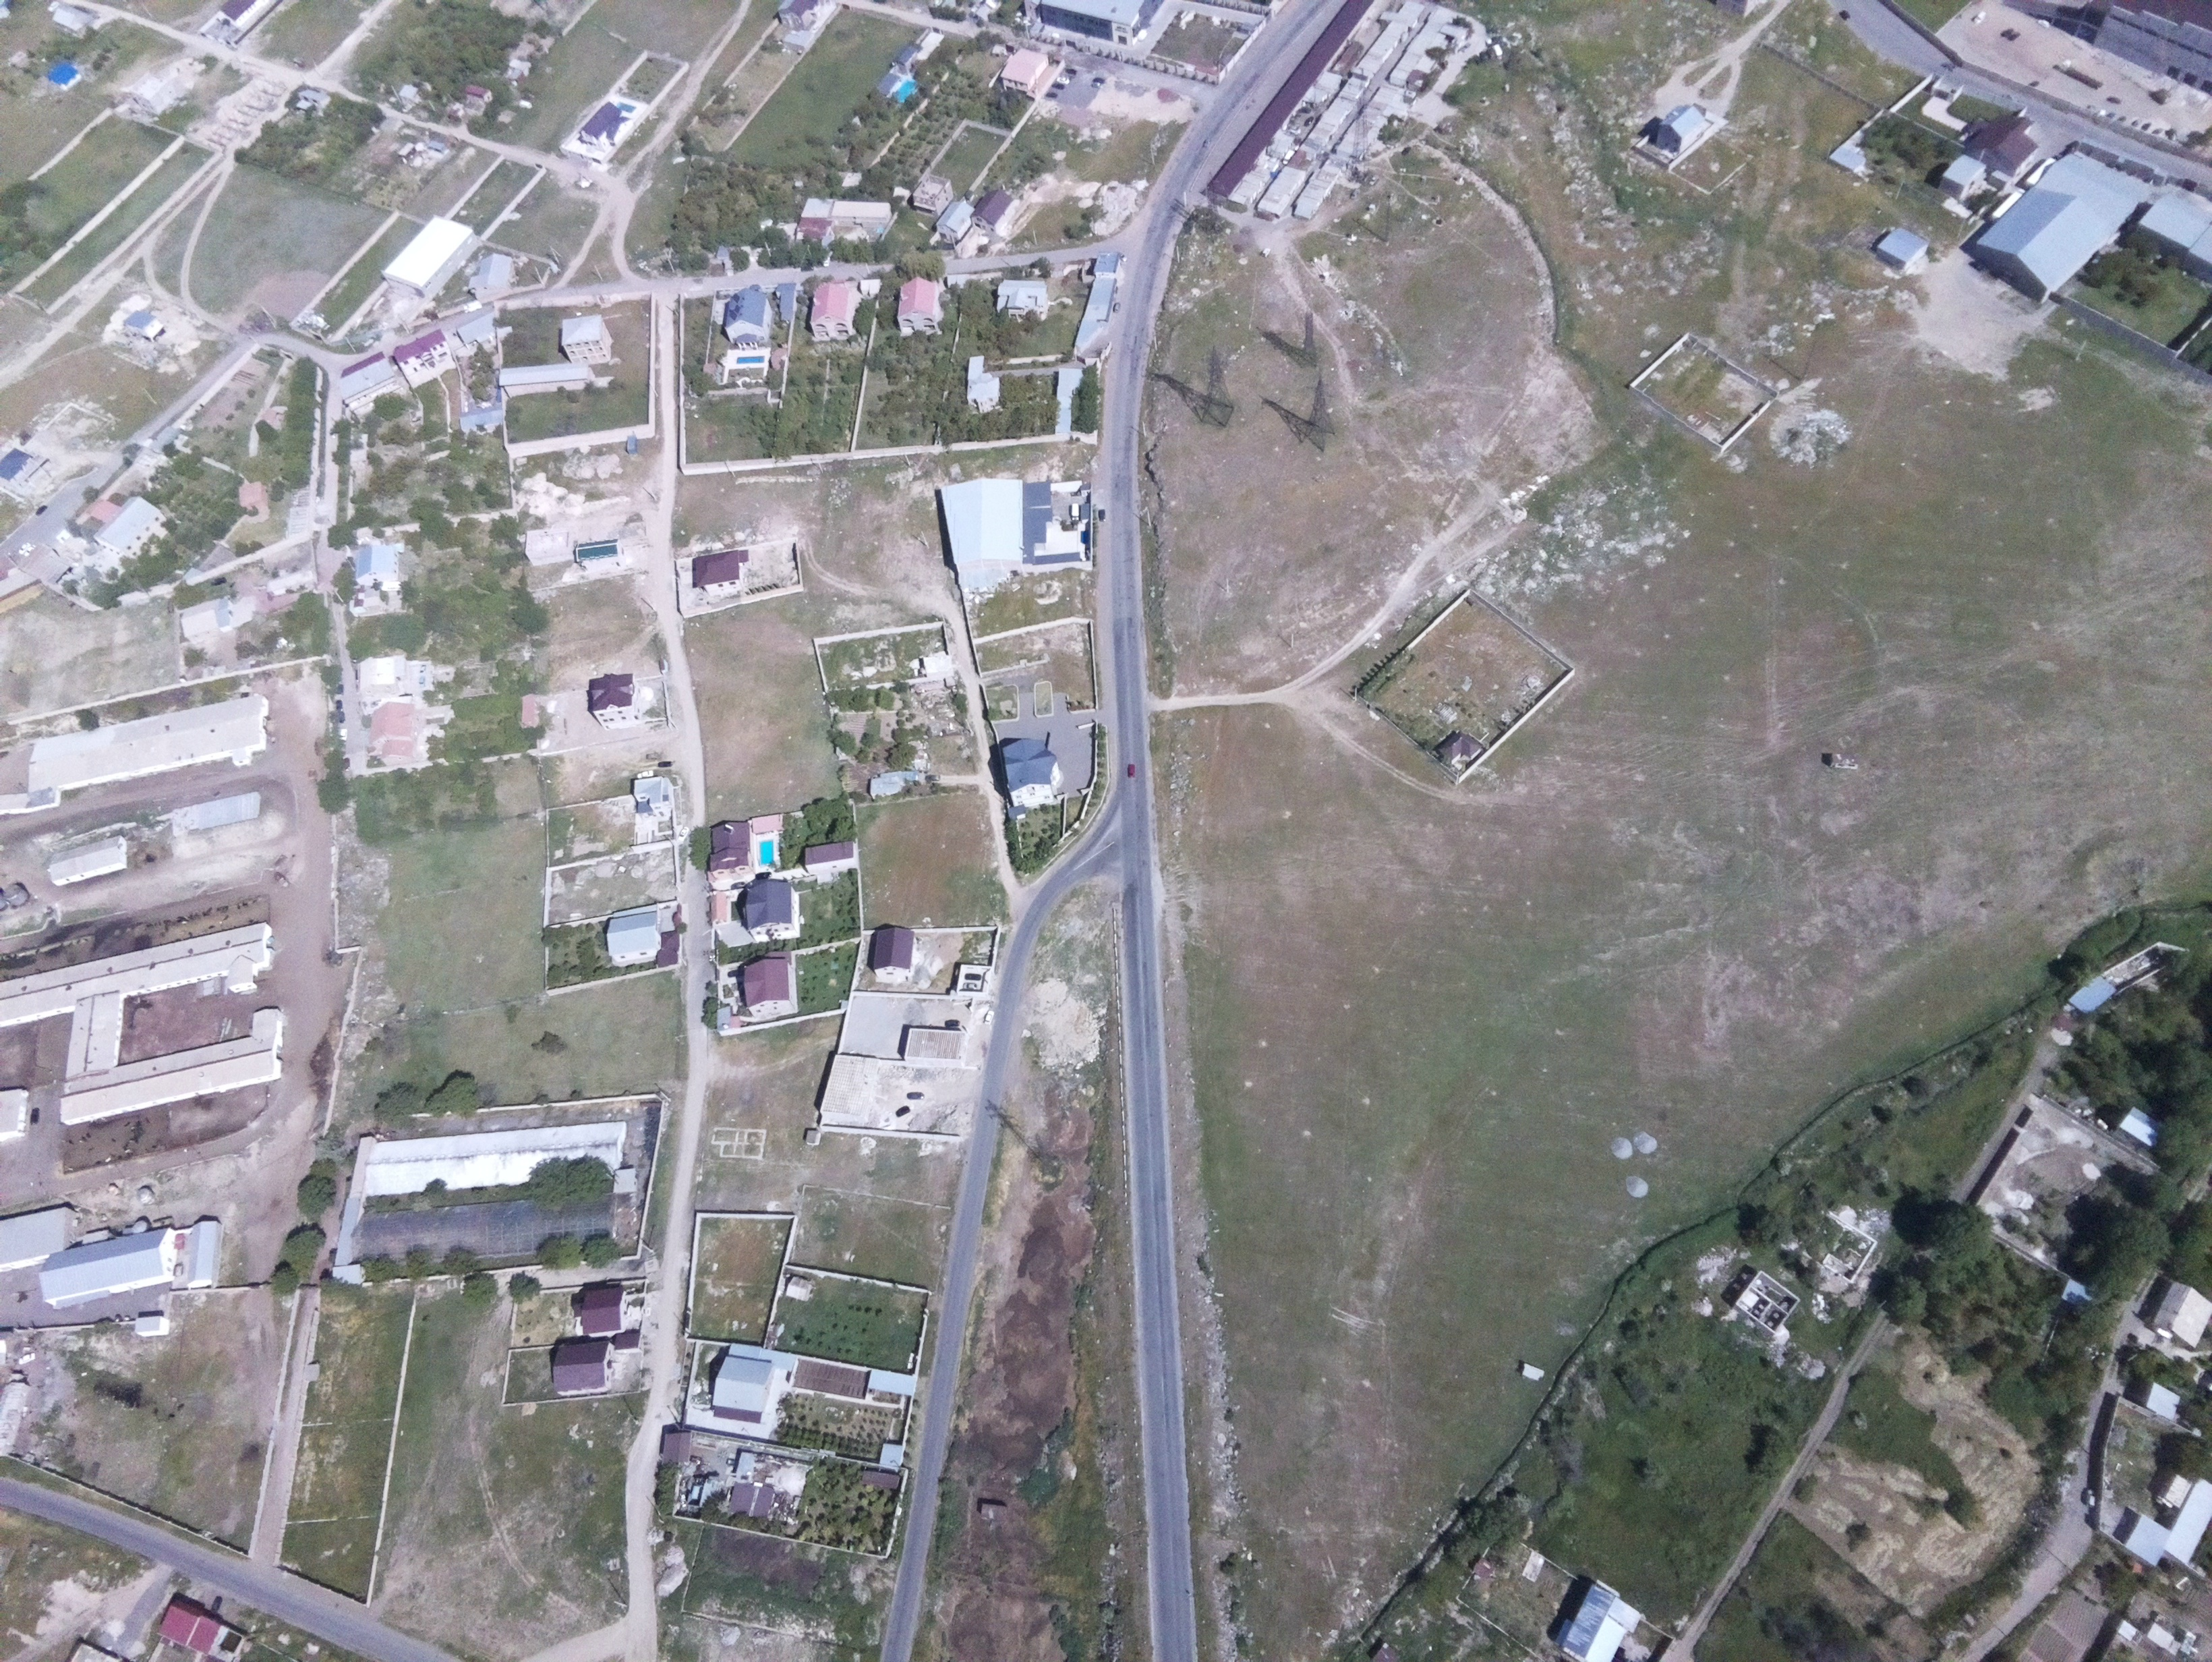car: (1067, 499, 1084, 524), (903, 1088, 929, 1103), (979, 1006, 999, 1027), (632, 766, 656, 780), (1123, 761, 1138, 780), (1053, 73, 1075, 86), (960, 979, 979, 993)
